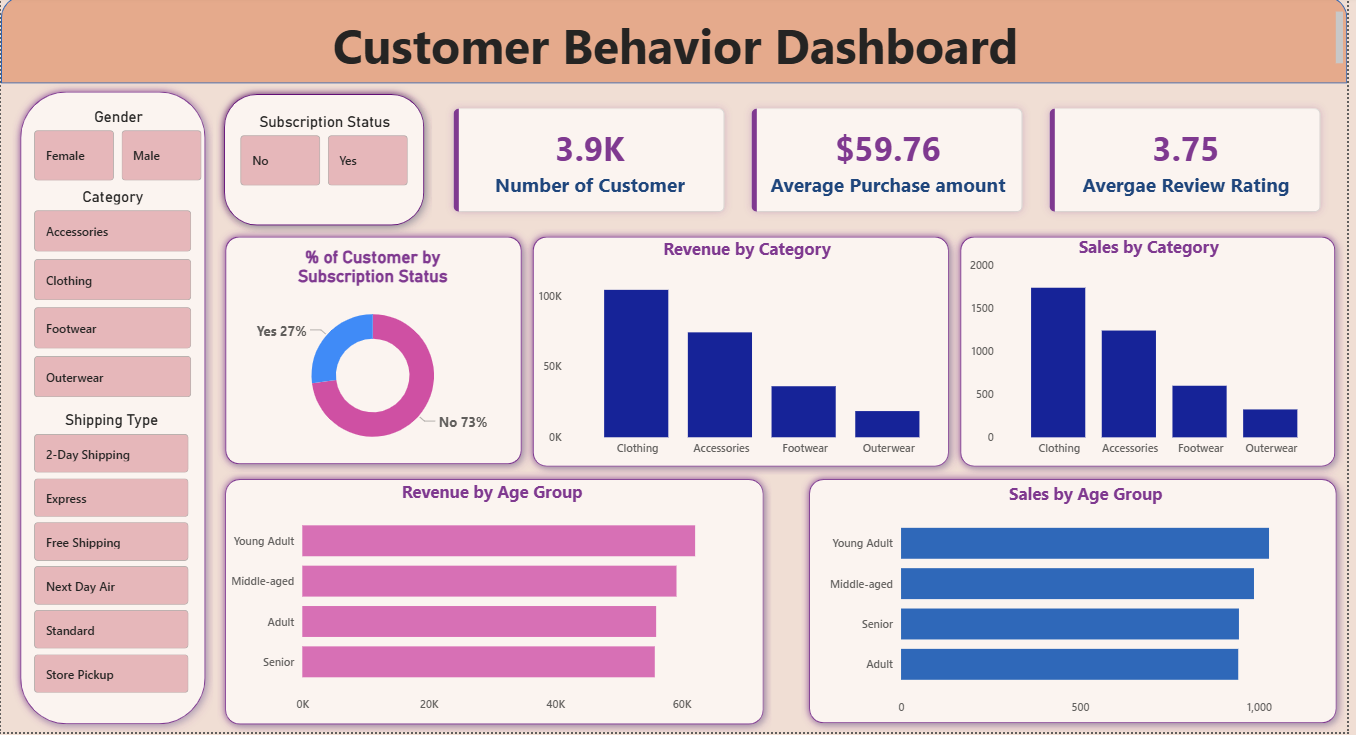

This screenshot's page, from the dashboard's own definition file:
{"tool":"powerbi","page":{"name":"Page 1","canvas":[1500,820],"ordinal":0},"visuals":[{"type":"cardVisual","fields":{"Data":["customer_shopping_behavior.Number of Customer","customer_shopping_behavior.Average Purchase amount","customer_shopping_behavior.Avergae Review Rating"]},"box":[476.3,97.5,1023.6,171.3],"z":0},{"type":"shape","box":[0,0,1499.9,97.5],"z":1000},{"type":"textbox","box":[11.3,12.9,1489.1,74],"z":2000},{"type":"shape","box":[240.9,259,348.2,271.6],"z":3000},{"type":"donutChart","title":"% of Customer  by Subscription Status","fields":{"Category":["customer_shopping_behavior.subscription_status"],"Y":["CountNonNull(customer_shopping_behavior.category)"]},"box":[254.9,279.9,318.9,238.1],"z":4000},{"type":"shape","box":[582.9,258.6,481.4,274.3],"z":5000},{"type":"shape","box":[1060,258.6,435.7,274.3],"z":6000},{"type":"clusteredColumnChart","title":"Revenue by Category","fields":{"Y":["Sum(customer_shopping_behavior.purchase_amount)"],"Category":["customer_shopping_behavior.category"]},"box":[594.3,268.6,470,252.9],"z":7000},{"type":"clusteredColumnChart","title":"Sales by Category","fields":{"Y":["customer_shopping_behavior.Number of Customer"],"Category":["customer_shopping_behavior.category"]},"box":[1075.7,265.7,404.3,255.7],"z":8000},{"type":"shape","box":[12.5,97.5,224.2,722.8],"z":9000},{"type":"advancedSlicerVisual","title":"Category","fields":{"Values":["customer_shopping_behavior.category"]},"box":[32,213.1,185.2,240.9],"z":12000},{"type":"advancedSlicerVisual","title":"Shipping Type","fields":{"Values":["customer_shopping_behavior.shipping_type"]},"box":[32,462.4,182.4,321.7],"z":13000},{"type":"shape","box":[237.1,528.6,622.9,291.4],"z":14000},{"type":"clusteredBarChart","title":"Revenue by Age Group","fields":{"Category":["customer_shopping_behavior.age_group"],"Y":["Sum(customer_shopping_behavior.purchase_amount)"]},"box":[250,538.6,590,268.6],"z":15000},{"type":"shape","box":[891.4,528.6,605.7,290],"z":16000},{"type":"clusteredBarChart","title":"Sales by Age Group","fields":{"Category":["customer_shopping_behavior.age_group"],"Y":["CountNonNull(customer_shopping_behavior.customer_id)"]},"box":[917.1,541.4,578.6,268.6],"z":17000},{"type":"shape","box":[239.5,100.3,240.9,164.3],"z":18000},{"type":"advancedSlicerVisual","title":"Gender","fields":{"Values":["customer_shopping_behavior.gender"]},"box":[32,123.9,197.8,87.7],"z":19000},{"type":"advancedSlicerVisual","title":"Subscription Status","fields":{"Values":["customer_shopping_behavior.subscription_status"]},"box":[261.8,129.5,197.8,87.7],"z":19001}]}

Visuals, with their boxes in screenshot pixels (x1, y1, x2, y2), scaled from the page's 1500x820 canvas onto the 1356x735 screenshot:
cardVisual - customer_shopping_behavior.Number of Customer x customer_shopping_behavior.Average Purchase amount: 431/87/1355/241
shape: 0/0/1355/87
textbox: 10/12/1355/78
shape: 218/232/533/476
"% of Customer  by Subscription Status" donutChart: 230/251/519/464
shape: 527/232/962/478
shape: 958/232/1352/478
"Revenue by Category" clusteredColumnChart: 537/241/962/467
"Sales by Category" clusteredColumnChart: 972/238/1338/467
shape: 11/87/214/734
"Category" advancedSlicerVisual: 29/191/196/407
"Shipping Type" advancedSlicerVisual: 29/414/194/703
shape: 214/474/777/734
"Revenue by Age Group" clusteredBarChart: 226/483/759/724
shape: 806/474/1353/734
"Sales by Age Group" clusteredBarChart: 829/485/1352/726
shape: 217/90/434/237
"Gender" advancedSlicerVisual: 29/111/208/190
"Subscription Status" advancedSlicerVisual: 237/116/415/195
